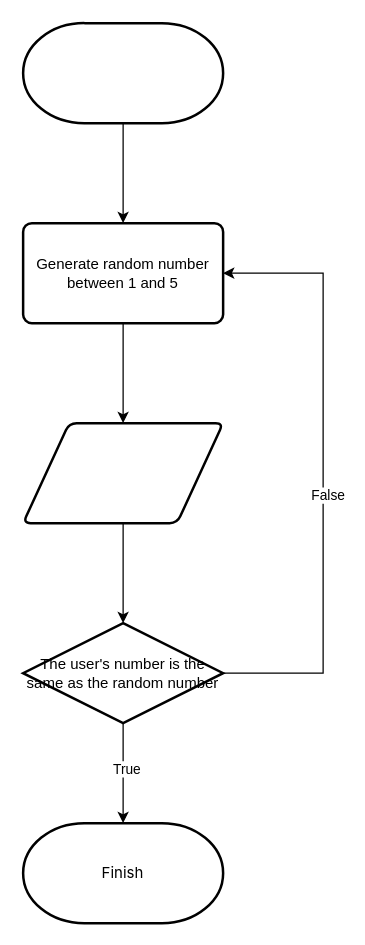
Some shapes in this 365 by 945 pixel diagram are drawn without their labels. Each missing label, with the box of its shape:
Get a number from the user: (21, 421, 224, 524)
Start: (21, 21, 224, 124)
